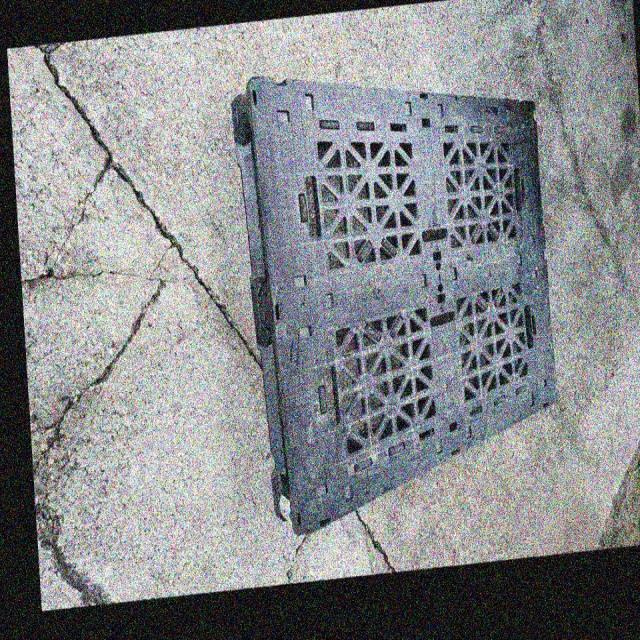igps: (229, 73, 559, 536)
